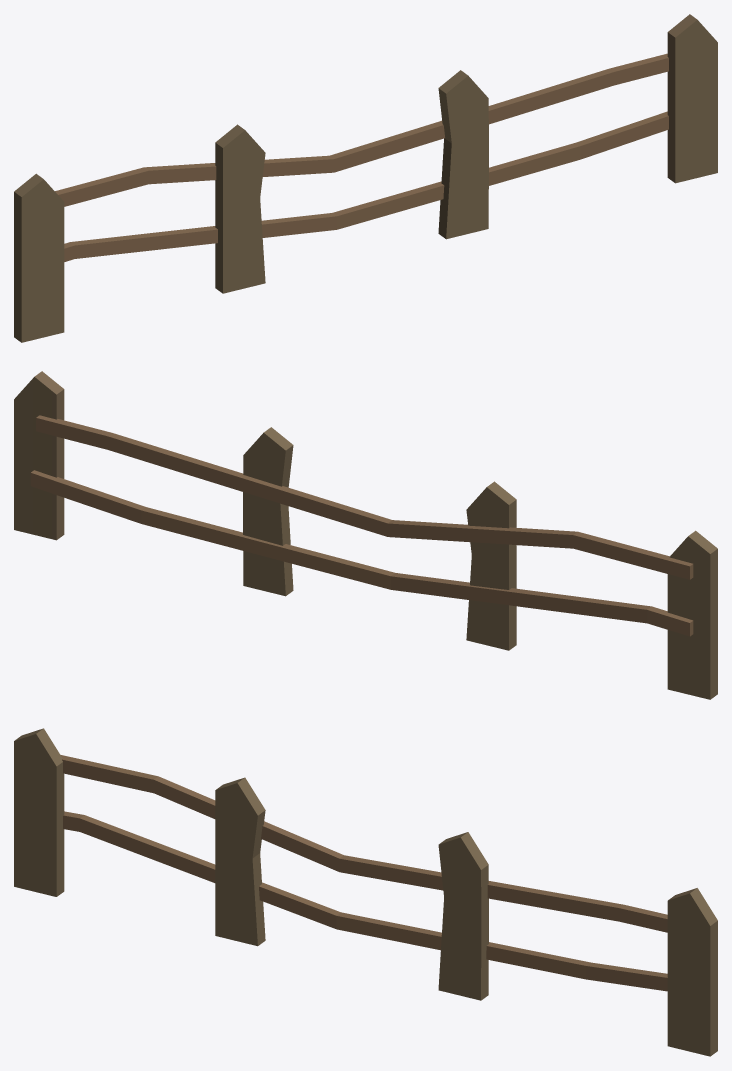
The model's file is Fence.fbx.
3 views of the same model, one above another, from view 1: azimuth 30°, elevation 25°; view 2: azimuth 150°, elevation 25°; view 3: azimuth 330°, elevation 25° (orthographic).
Visible parts, largest first — view 1: Fence; view 2: Fence; view 3: Fence.
Boxes of the visible parts, x1,y1,x2,y2 form: Fence: (14,14,717,342); Fence: (14,371,717,699); Fence: (14,728,717,1056).
Size of the model in its own units: 92.61 by 20.12 by 2.58.
Materials: 1 (1 with a texture image).
